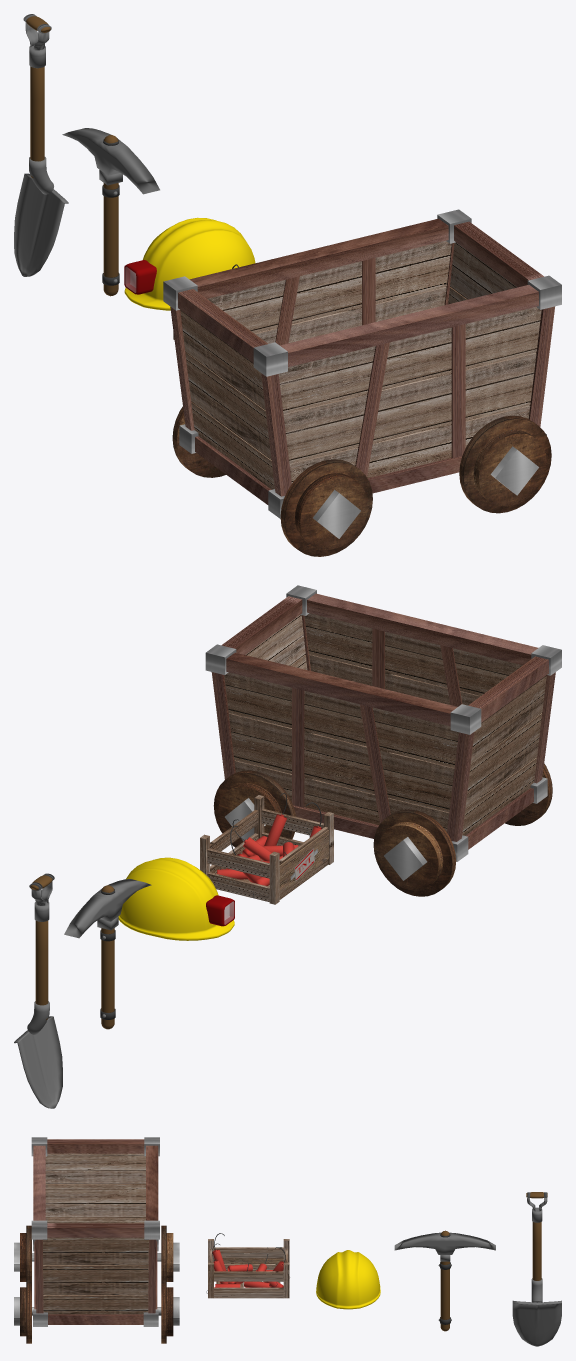
The model's file is miner's pack.fbx.
The picture shows the model from 3 angles, top to bottom: view 1: azimuth 30°, elevation 25°; view 2: azimuth 150°, elevation 25°; view 3: azimuth 270°, elevation 25°; orthographic projection. The views are drawn at different scales.
Visible parts, largest first — view 1: Cube.018, Cylinder.022, Cube.021, Roundcube.005, Cube.026, Cube.019, Plane.002, Cube.022, Cube.017, Cube.020, Cylinder.037, Cube (+6 smaller); view 2: Cube.018, Cube.021, Cylinder.022, Roundcube.005, Cube.026, Cube.019, Plane.002, Cube.022, Cube.017, Cube.020, Cube, Cube.014 (+11 smaller); view 3: Cube.018, Roundcube.005, Cube.019, Cylinder.022, Cube.021, Plane.002, Cube, Cube.026, Cube.022, Cube.023, Cube.005, Cube.007 (+9 smaller).
Boxes of the visible parts, box(x1,y1,x2,y2) form: Cube.018: box(180, 240, 541, 489); Cylinder.022: box(172, 406, 551, 556); Cube.021: box(189, 218, 538, 367); Roundcube.005: box(124, 217, 255, 310); Cube.026: box(170, 243, 554, 496); Cube.019: box(178, 221, 543, 362); Plane.002: box(14, 173, 68, 276); Cube.022: box(163, 209, 561, 376); Cube.017: box(361, 258, 465, 458); Cube.020: box(275, 276, 389, 476); Cylinder.037: box(313, 446, 538, 538); Cube: box(62, 128, 159, 194); Cube.018: box(224, 613, 546, 835); Cube.021: box(226, 593, 538, 726); Cylinder.022: box(213, 763, 552, 896); Roundcube.005: box(118, 857, 234, 940); Cube.026: box(211, 615, 555, 841); Cube.019: box(221, 596, 548, 722); Plane.002: box(14, 1016, 62, 1108); Cube.022: box(205, 585, 561, 734); Cube.017: box(292, 628, 385, 807); Cube.020: box(359, 645, 462, 823); Cube: box(64, 879, 151, 938); Cube.014: box(200, 795, 333, 904); Cube.018: box(43, 1153, 148, 1314); Roundcube.005: box(316, 1250, 380, 1309); Cube.019: box(47, 1139, 144, 1237); Cylinder.022: box(20, 1225, 173, 1343); Cube.021: box(33, 1145, 158, 1220); Plane.002: box(512, 1300, 561, 1346); Cube: box(394, 1232, 495, 1254); Cube.026: box(35, 1239, 156, 1313); Cube.022: box(31, 1137, 159, 1239); Cube.023: box(48, 1314, 143, 1324); Cube.005: box(214, 1287, 283, 1298); Cube.007: box(214, 1271, 283, 1281).
Size of the model in its own units: 845 by 699 by 2174.
17 materials, 10 textured.
